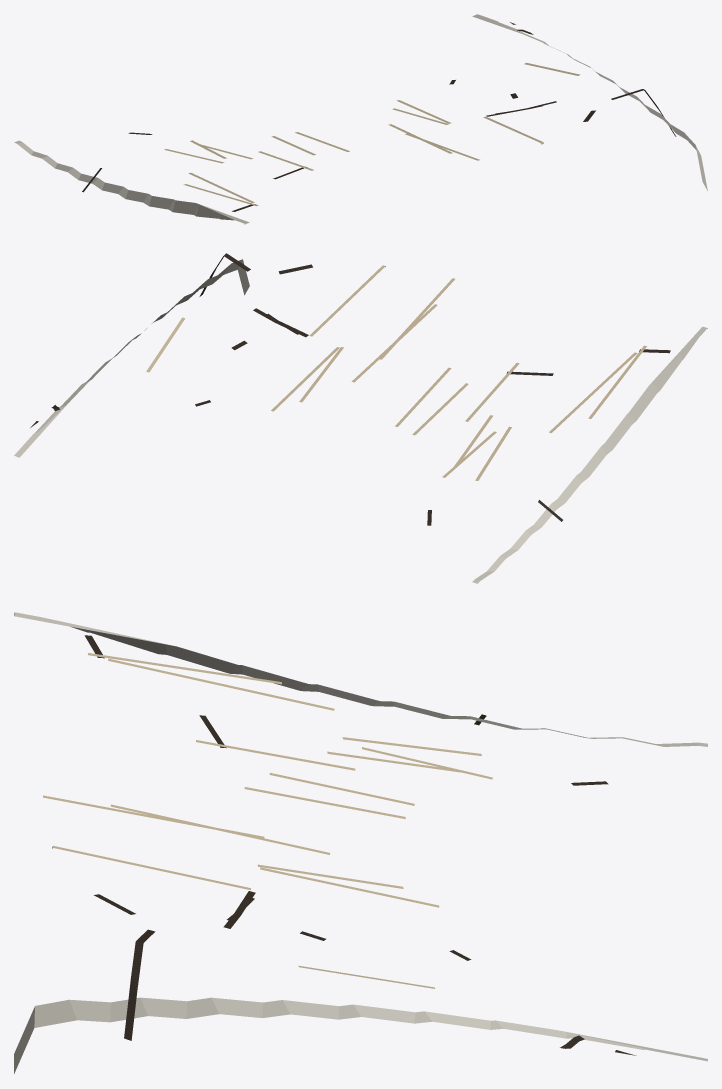
Rendered from dam_corkscrew_step_detail1.glb.
3 renders of one model, top to bottom at view 1: azimuth 30°, elevation 25°; view 2: azimuth 150°, elevation 25°; view 3: azimuth 270°, elevation 25°, orthographic. The views are drawn at different scales.
Visible parts, largest first — view 1: dam_corkscrew_step_detail1; view 2: dam_corkscrew_step_detail1; view 3: dam_corkscrew_step_detail1.
Boxes of the visible parts, <box> form: dam_corkscrew_step_detail1: <box>14,14,707,224</box>; dam_corkscrew_step_detail1: <box>14,253,707,583</box>; dam_corkscrew_step_detail1: <box>14,612,707,1073</box>.
Bounding box in the file's own units: 22 × 3.84 × 18.3.
